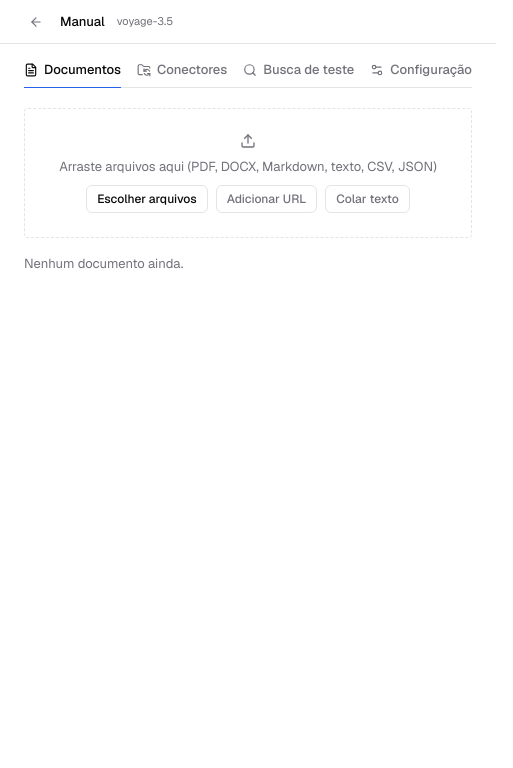
corte por base › reprocessar pede confirmação, só com o corte salvo, e lista o que reenviar
Click the tab "Configuração" at (421, 70), box [370,52,472,88]
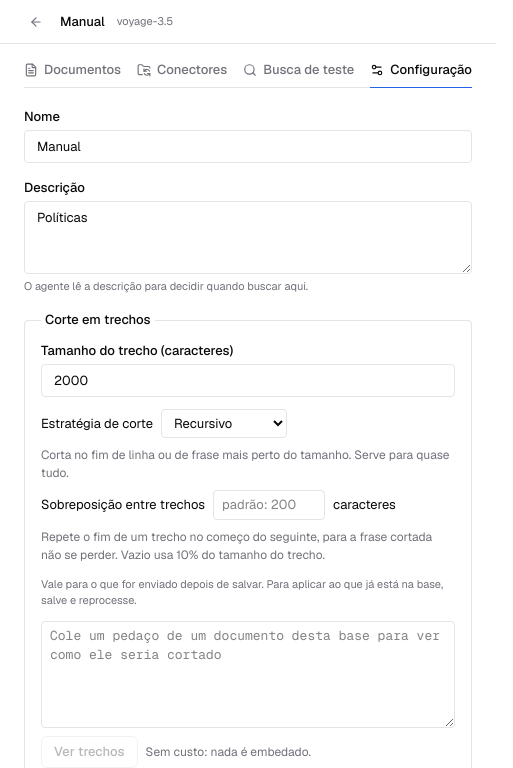
Select "Tamanho fixo" in the dropdown labelled "Estratégia de corte" at (224, 424), box [161,409,287,438]
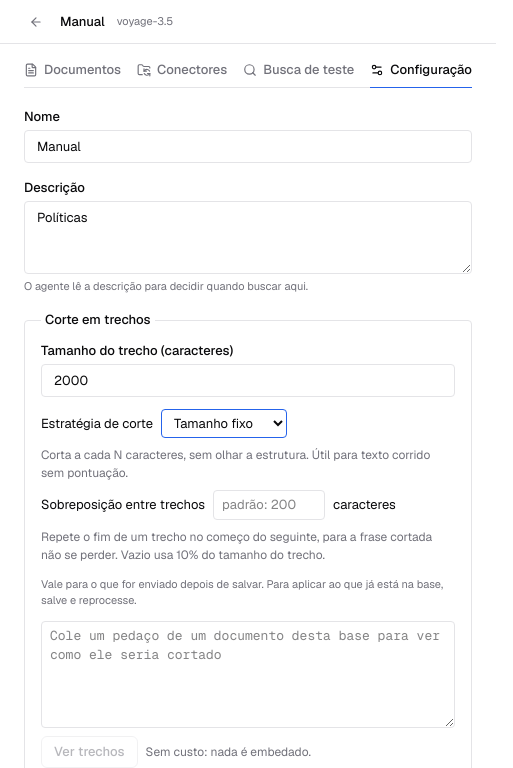
Select "Recursivo" in the dropdown labelled "Estratégia de corte" at (224, 424), box [161,409,287,438]
(page scrolled)
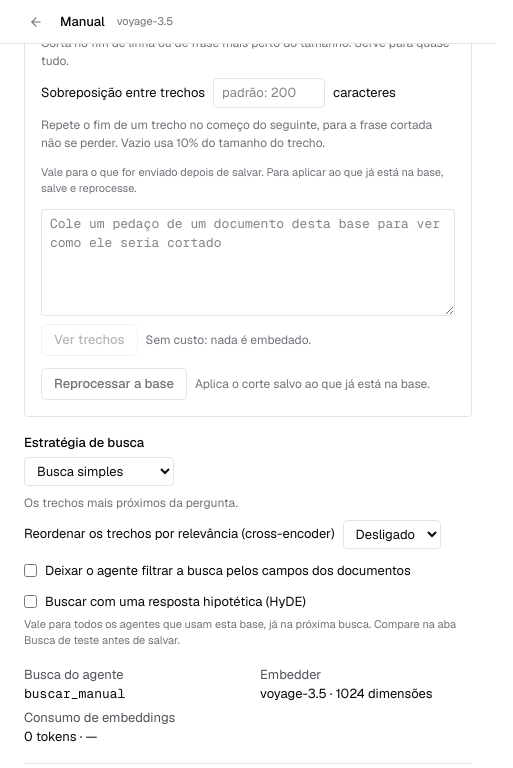
Click the button "Reprocessar a base" at (114, 384), box [41,368,187,400]
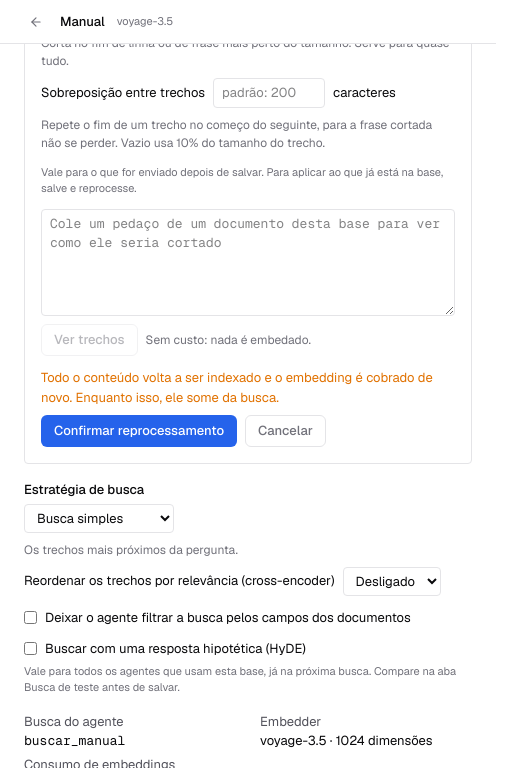
Click the button "Confirmar reprocessamento" at (139, 431), box [41,415,237,447]
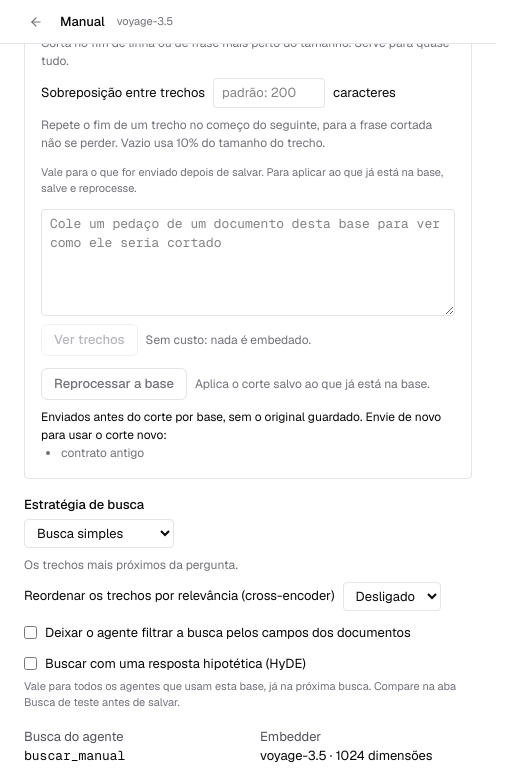
Check: the list item "contrato antigo" is shown, box [61,445,144,461]
